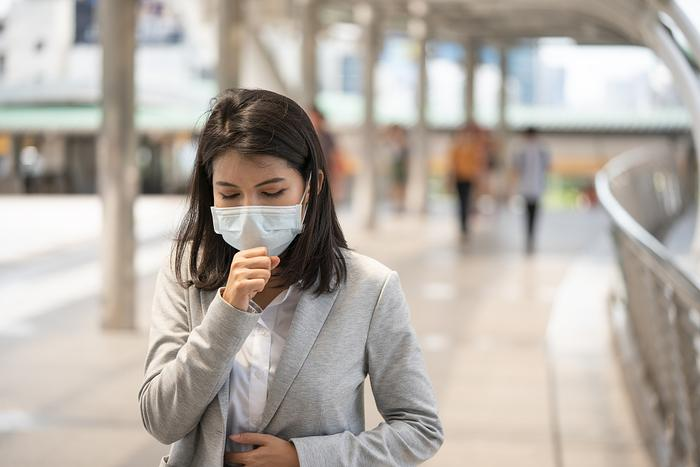mask: (206, 120, 310, 259)
